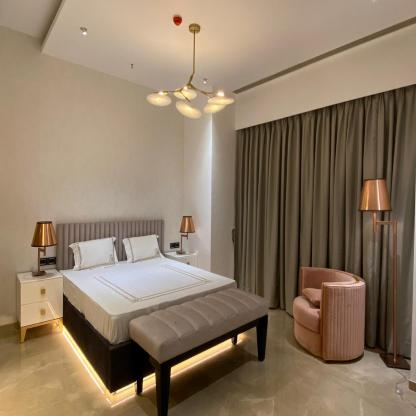Bed: (58, 215, 238, 391)
Ceramic floor: (169, 312, 416, 416), (0, 324, 155, 416)
Curtains: (233, 83, 416, 362)
Lamp: (357, 166, 408, 380), (24, 210, 60, 284)
Nightstand: (10, 263, 70, 349)
